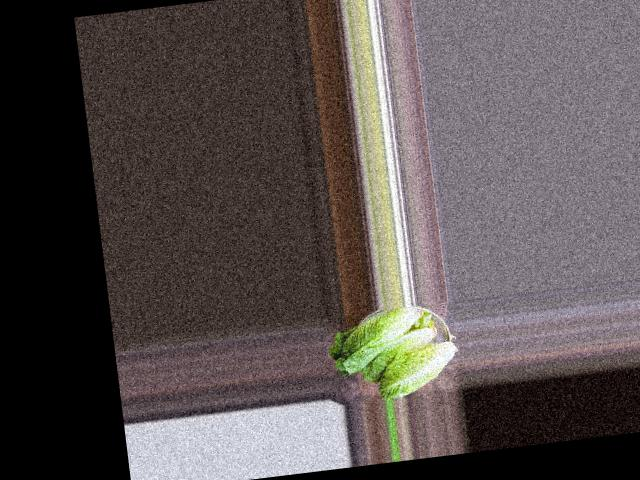lettuce: (328, 303, 437, 378)
